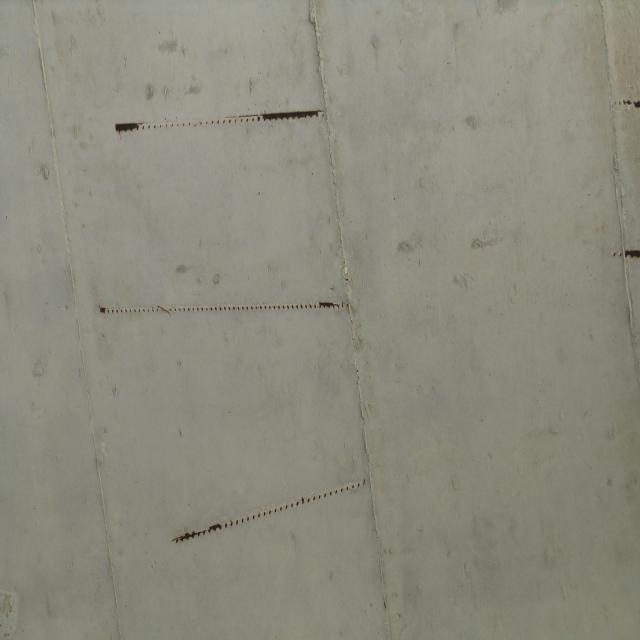corrosion: (158, 470, 390, 561), (83, 289, 363, 332), (104, 100, 333, 145), (604, 234, 640, 276), (610, 93, 640, 125)
